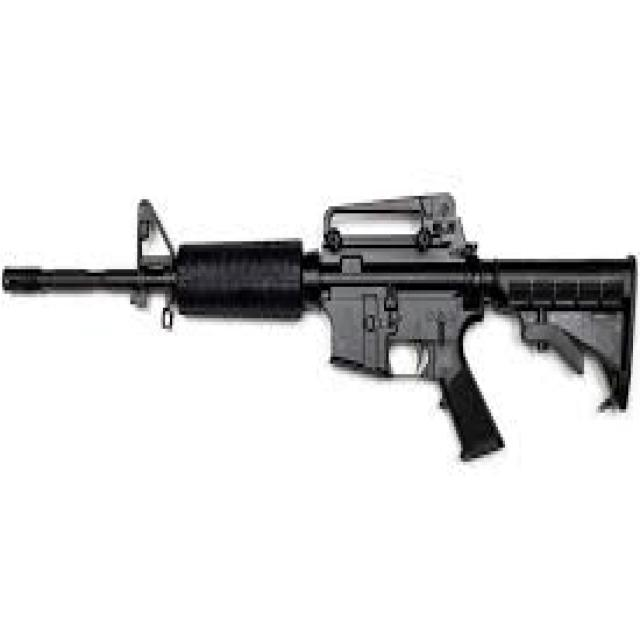rifle: (1, 194, 640, 503)
